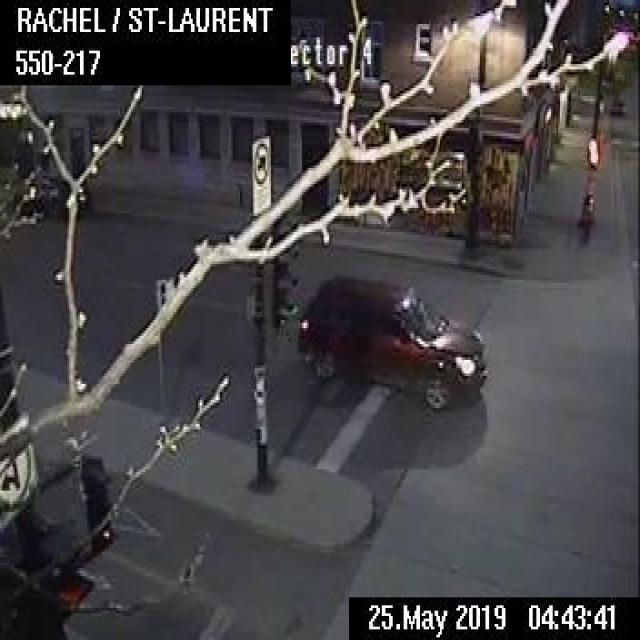vehicle: (295, 270, 489, 414)
